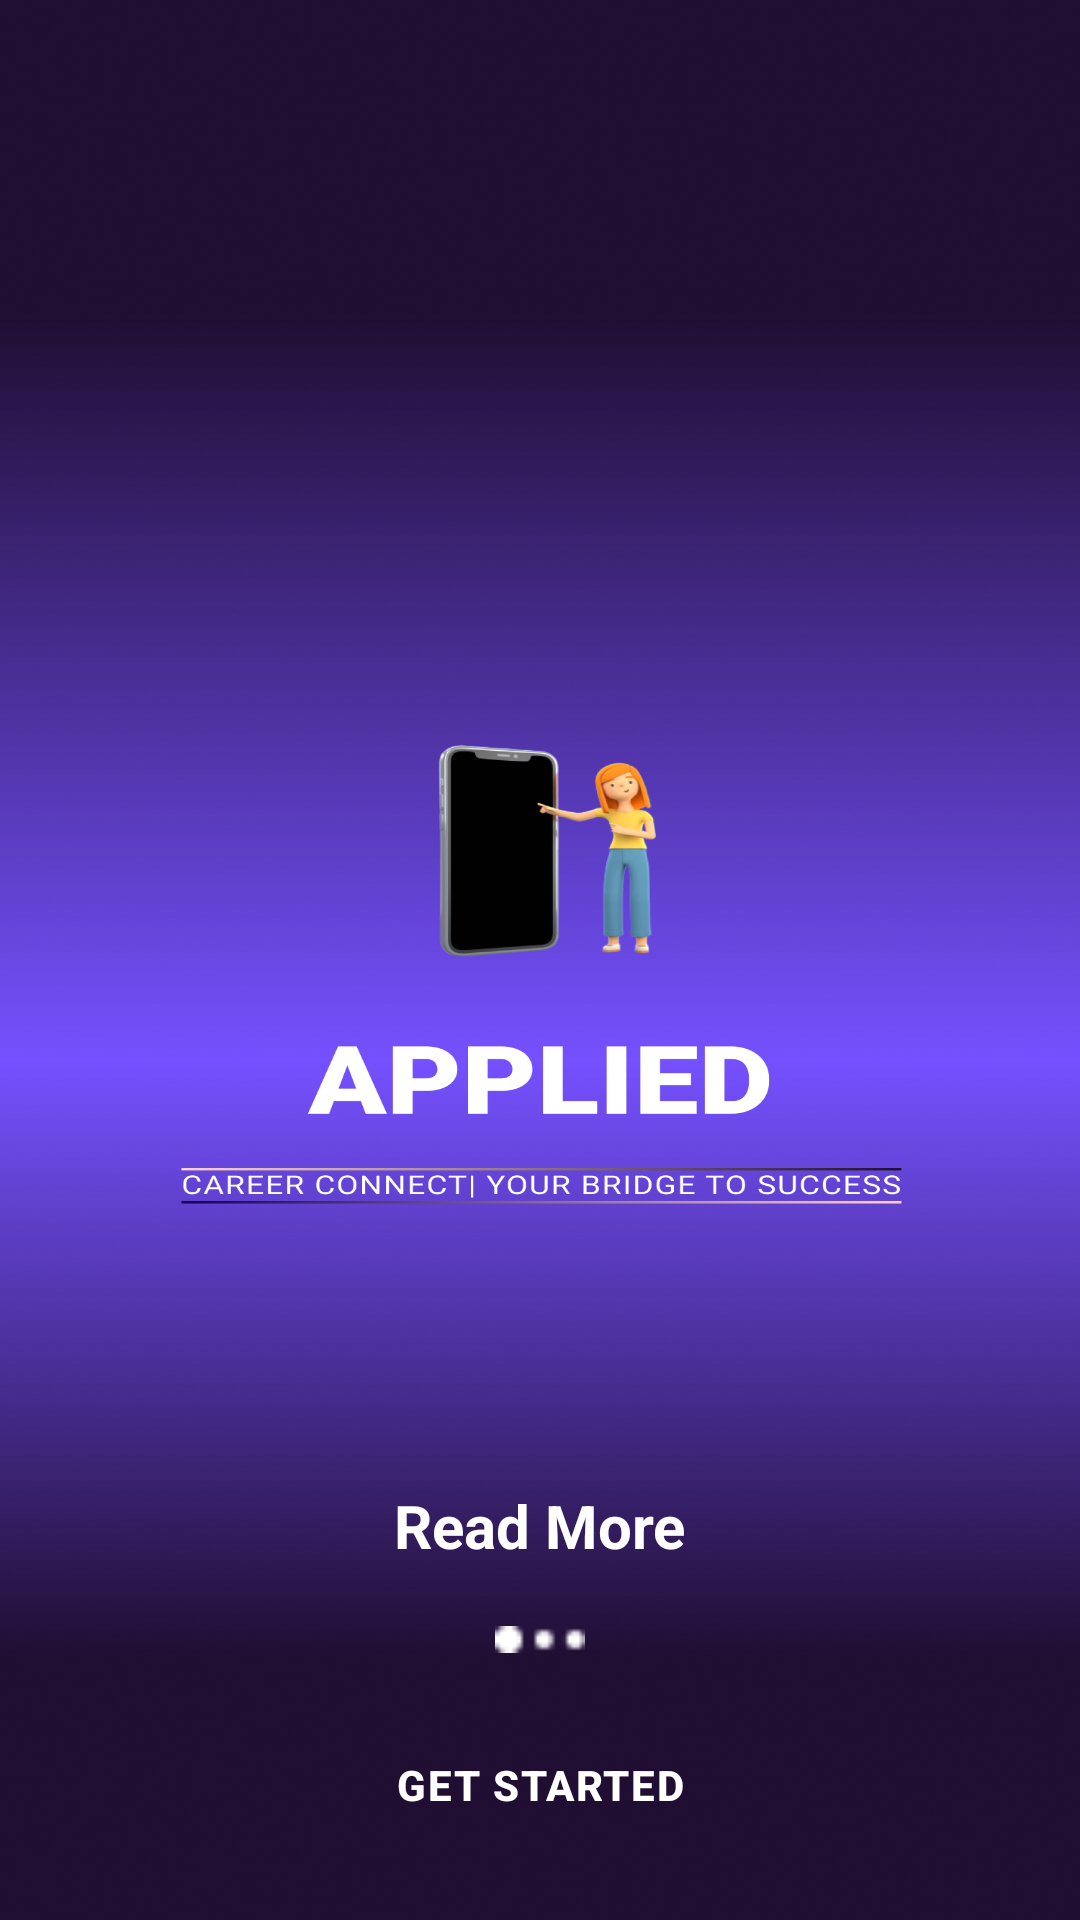

Screen size 1080 × 1920. Icon name, then its box in pixels as box(x1, y1, x2, y2):
dot: box(495, 1626, 585, 1653)
